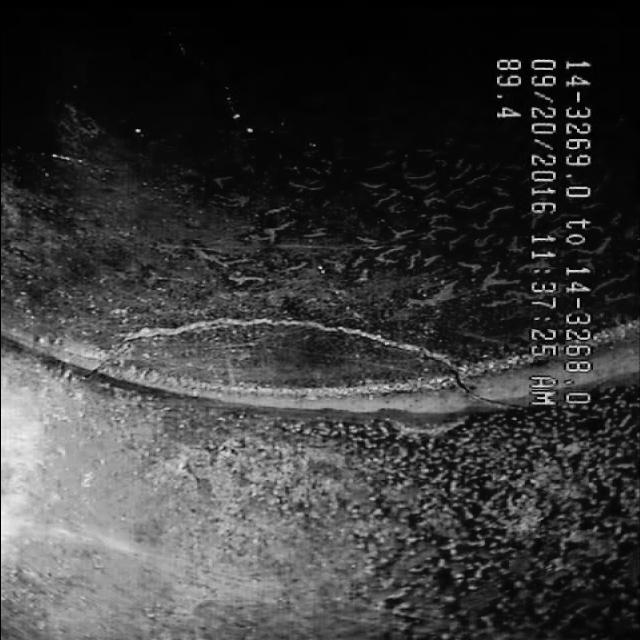Fracture: (98, 302, 464, 384)
